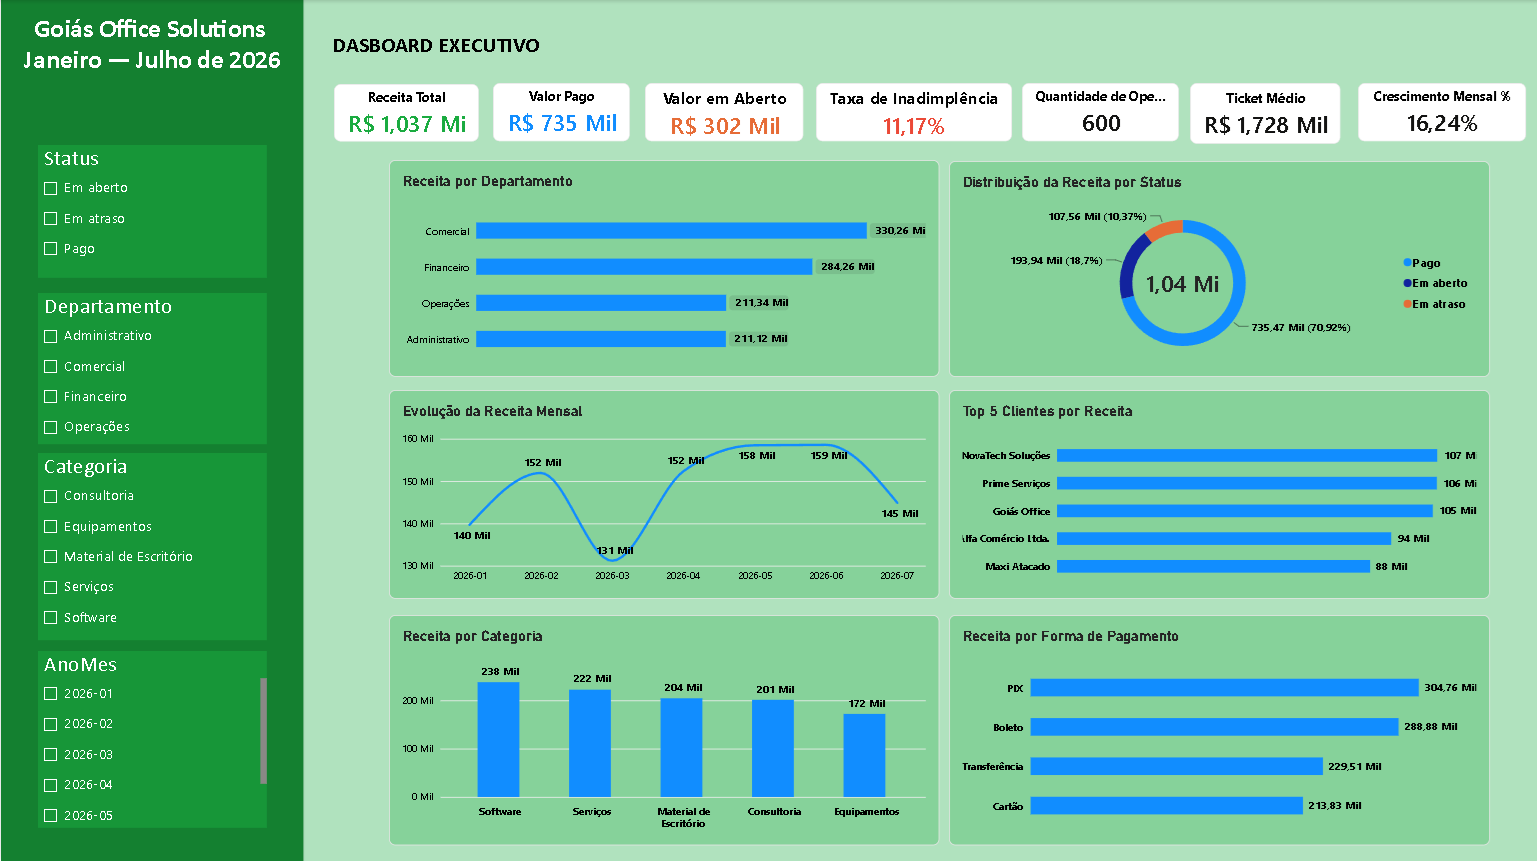

This screenshot's page, from the dashboard's own definition file:
{"tool":"powerbi","page":{"name":"Dashboard Executivo","canvas":[1920,1080],"ordinal":0},"visuals":[{"type":"shape","box":[0,0,378.3,1080],"z":0},{"type":"cardVisual","fields":{"Data":["Base_Dados.Receita Total"]},"box":[415.7,107.1,181.4,72.9],"z":1000},{"type":"cardVisual","fields":{"Data":["Base_Dados.Valor Pago"]},"box":[615,106.7,171.7,73.3],"z":2000},{"type":"cardVisual","fields":{"Data":["Base_Dados.Valor em Aberto"]},"box":[805,106.7,198.3,73.3],"z":3000},{"type":"cardVisual","fields":{"Data":["Base_Dados.Ticket Médio"]},"box":[1486.7,106.7,188.3,76.7],"z":4000},{"type":"cardVisual","fields":{"Data":["Base_Dados.Quantidade de Operações"]},"box":[1276.7,106.7,196.7,73.3],"z":5000},{"type":"cardVisual","fields":{"Data":["Base_Dados.Taxa de Inadimplência"]},"box":[1018.3,106.7,245,73.3],"z":6000},{"type":"textbox","box":[0,0,378.6,147.1],"z":7000},{"type":"lineChart","title":"Evolução da Receita Mensal","fields":{"Category":["Calendario.AnoMes"],"Y":["Base_Dados.Receita Total"]},"box":[485.6,489.6,688.1,260.7],"z":8000},{"type":"barChart","title":"Receita por Departamento","fields":{"Category":["Base_Dados.Departamento"],"Y":["Base_Dados.Receita Total"]},"box":[485.6,202.5,688.1,271.3],"z":9000},{"type":"donutChart","title":"Distribuição da Receita por Status","fields":{"Category":["Base_Dados.Status"],"Y":["Base_Dados.Receita Total"]},"box":[1185.6,203.8,676.2,269.9],"z":10000},{"type":"barChart","title":"Top 5 Clientes por Receita","fields":{"Category":["Base_Dados.Cliente"],"Y":["Base_Dados.Receita Total"]},"box":[1185.6,489.6,676.2,260.7],"z":11000},{"type":"columnChart","title":"Receita por Categoria","fields":{"Category":["Base_Dados.Categoria"],"Y":["Base_Dados.Receita Total"]},"box":[485.6,771.4,688.1,288.5],"z":12000},{"type":"barChart","title":"Receita por Forma de Pagamento","fields":{"Category":["Base_Dados.Forma_Pagamento"],"Y":["Base_Dados.Receita Total"]},"box":[1185.6,771.4,676.2,288.5],"z":13000},{"type":"slicer","fields":{"Values":["Calendario.AnoMes"]},"box":[45.7,815.7,285.7,221.4],"z":14000},{"type":"slicer","fields":{"Values":["Base_Dados.Departamento"]},"box":[45.7,368.6,285.7,188.6],"z":15000},{"type":"slicer","fields":{"Values":["Base_Dados.Categoria"]},"box":[45.7,568.6,285.7,234.3],"z":16000},{"type":"cardVisual","fields":{"Data":["Base_Dados.Crescimento Mensal %"]},"box":[1696.7,106.7,210,73.3],"z":17000},{"type":"slicer","fields":{"Values":["Base_Dados.Status"]},"box":[45.7,184.3,285.7,165.7],"z":18000},{"type":"textbox","box":[415.5,42.3,269.9,49],"z":19000}]}

Visuals, with their boxes in screenshot pixels (x1, y1, x2, y2), scaled from the page's 1920x1080 canvas onto the 1537x861 screenshot:
shape: bbox=[0, 0, 303, 860]
cardVisual - Base_Dados.Receita Total: bbox=[333, 85, 478, 144]
cardVisual - Base_Dados.Valor Pago: bbox=[492, 85, 630, 144]
cardVisual - Base_Dados.Valor em Aberto: bbox=[644, 85, 803, 144]
cardVisual - Base_Dados.Ticket Médio: bbox=[1190, 85, 1341, 146]
cardVisual - Base_Dados.Quantidade de Operações: bbox=[1022, 85, 1179, 144]
cardVisual - Base_Dados.Taxa de Inadimplência: bbox=[815, 85, 1011, 144]
textbox: bbox=[0, 0, 303, 117]
"Evolução da Receita Mensal" lineChart: bbox=[389, 390, 940, 598]
"Receita por Departamento" barChart: bbox=[389, 161, 940, 378]
"Distribuição da Receita por Status" donutChart: bbox=[949, 162, 1490, 378]
"Top 5 Clientes por Receita" barChart: bbox=[949, 390, 1490, 598]
"Receita por Categoria" columnChart: bbox=[389, 615, 940, 845]
"Receita por Forma de Pagamento" barChart: bbox=[949, 615, 1490, 845]
slicer - Calendario.AnoMes: bbox=[37, 650, 265, 827]
slicer - Base_Dados.Departamento: bbox=[37, 294, 265, 444]
slicer - Base_Dados.Categoria: bbox=[37, 453, 265, 640]
cardVisual - Base_Dados.Crescimento Mensal %: bbox=[1358, 85, 1526, 144]
slicer - Base_Dados.Status: bbox=[37, 147, 265, 279]
textbox: bbox=[333, 34, 549, 73]
